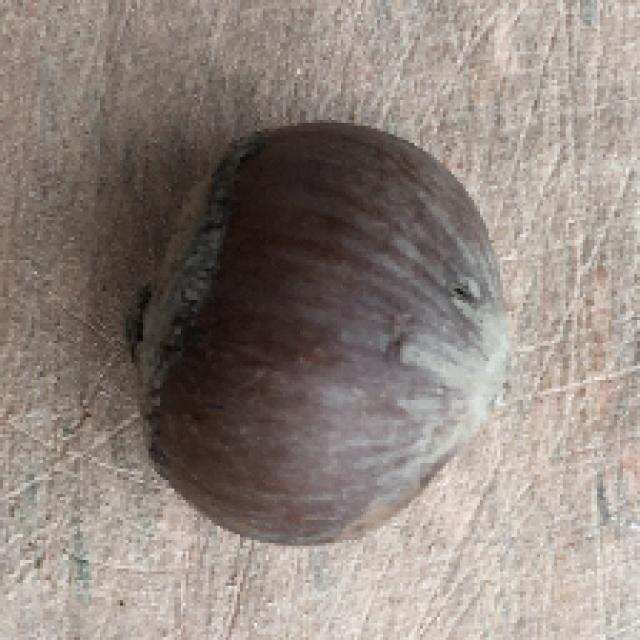damagedHazelnut: (123, 117, 507, 548)
